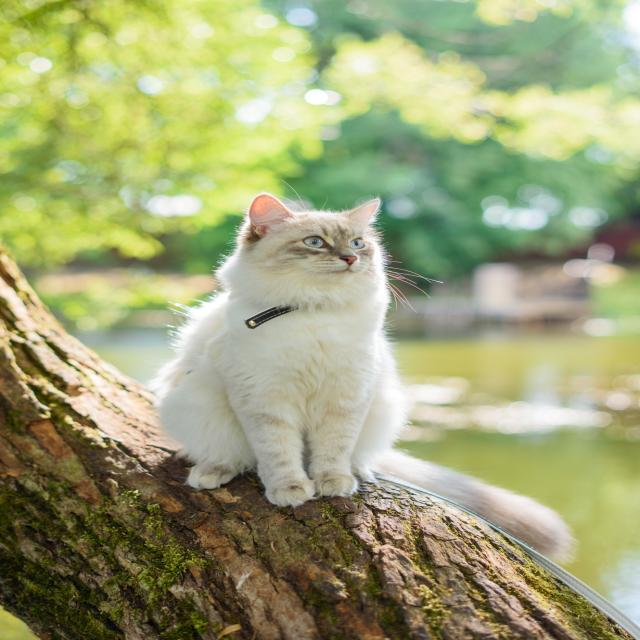Neva Masquerade: (149, 190, 417, 512)
